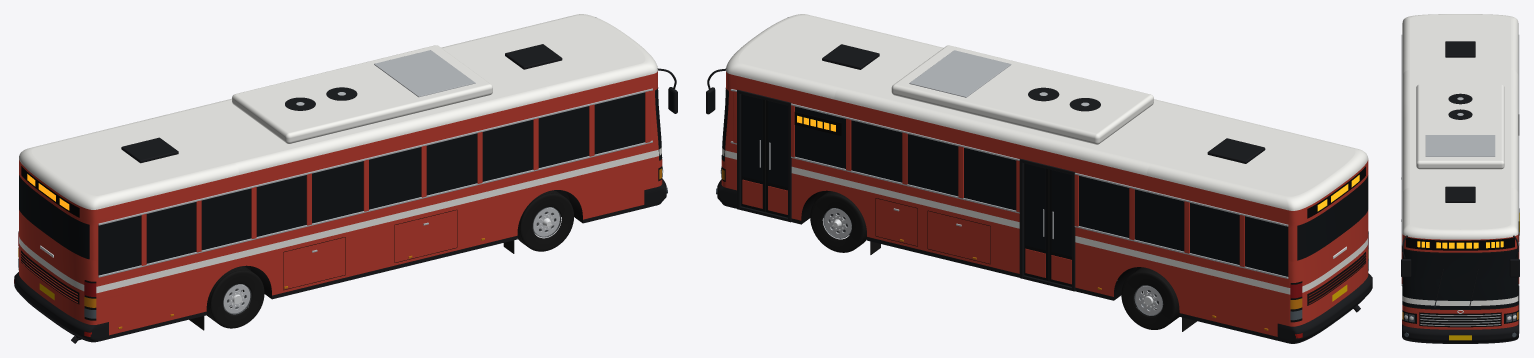
The model's file is bus.glb.
3 views of the same model, side by side, from view 1: azimuth 30°, elevation 25°; view 2: azimuth 150°, elevation 25°; view 3: azimuth 270°, elevation 25° (orthographic). The views are drawn at different scales.
Parts seen in each view (by area): view 1: paint_stripe, paint, glass, trim, alu, wheel_rr_tyre, wheel_fr_tyre, trim_gloss, under, wheel_fr_rim, wheel_rr_rim; view 2: paint_stripe, paint, glass, trim, alu, trim_gloss, wheel_rl_tyre, wheel_fl_tyre, dest_board, rubber, under, wheel_fl_rim (+2 smaller); view 3: paint_stripe, glass, trim, alu, paint, trim_gloss, dest_board, dest_led, rubber, headlight, plate_front.
Part boxes in pixels (left/top/right/bottom): paint_stripe: left=19, top=14, right=661, bottom=293; paint: left=19, top=71, right=662, bottom=335; glass: left=19, top=89, right=674, bottom=275; trim: left=14, top=44, right=677, bottom=343; alu: left=98, top=50, right=652, bottom=277; wheel_rr_tyre: left=206, top=266, right=264, bottom=328; wheel_fr_tyre: left=517, top=190, right=573, bottom=251; trim_gloss: left=18, top=166, right=662, bottom=320; under: left=245, top=190, right=582, bottom=298; wheel_fr_rim: left=533, top=207, right=559, bottom=236; wheel_rr_rim: left=223, top=284, right=250, bottom=313; paint_stripe: left=722, top=14, right=1368, bottom=294; paint: left=721, top=71, right=1368, bottom=336; glass: left=709, top=89, right=1368, bottom=276; trim: left=706, top=44, right=1372, bottom=343; alu: left=730, top=50, right=1288, bottom=278; trim_gloss: left=721, top=94, right=1368, bottom=322; wheel_rl_tyre: left=1121, top=267, right=1179, bottom=329; wheel_fl_tyre: left=810, top=191, right=866, bottom=252; dest_board: left=794, top=111, right=1365, bottom=218; rubber: left=721, top=88, right=1196, bottom=331; under: left=801, top=190, right=1141, bottom=300; wheel_fl_rim: left=824, top=208, right=851, bottom=237; paint_stripe: left=1402, top=14, right=1518, bottom=305; glass: left=1402, top=249, right=1518, bottom=308; trim: left=1401, top=41, right=1519, bottom=343; alu: left=1401, top=35, right=1519, bottom=326; paint: left=1401, top=234, right=1519, bottom=329; trim_gloss: left=1402, top=310, right=1518, bottom=327; dest_board: left=1406, top=208, right=1519, bottom=250; dest_led: left=1417, top=213, right=1519, bottom=248; rubber: left=1402, top=248, right=1518, bottom=309; headlight: left=1404, top=313, right=1516, bottom=337; plate_front: left=1449, top=335, right=1471, bottom=340.
Bounding box in the file's own units: 11.51 × 3.21 × 2.56.
